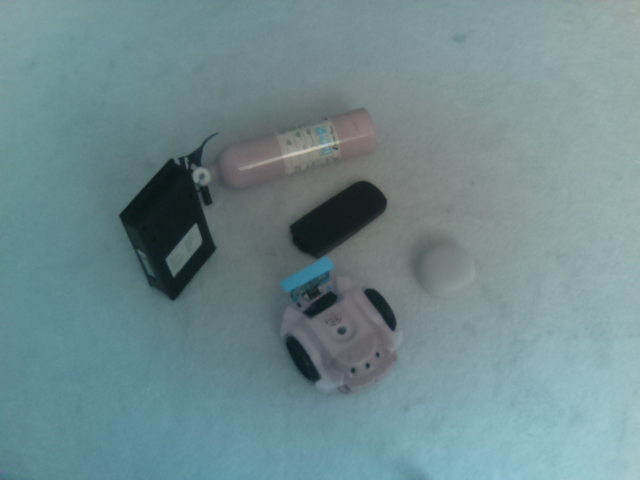board: (273, 256, 338, 306)
chassis: (269, 254, 407, 398)
